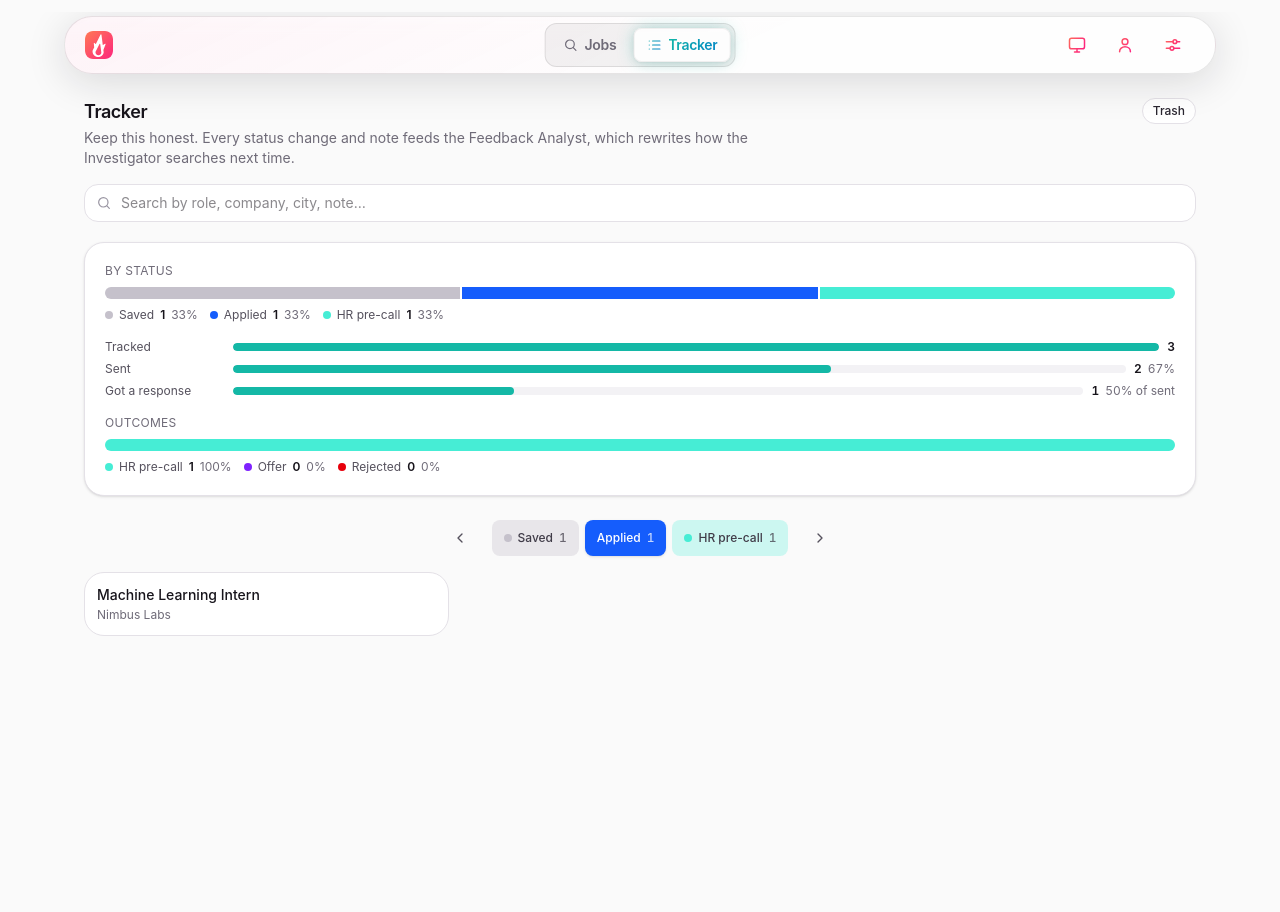
Test: the Tracker's search field › narrows the board to what matches
The width and height of the screenshot is (1280, 912).
Expected: the text "Nimbus Labs" is shown, [97,607,171,622]
Type "orbital" into the search field named "Search applications" at (640, 203), box [84,184,1196,222]
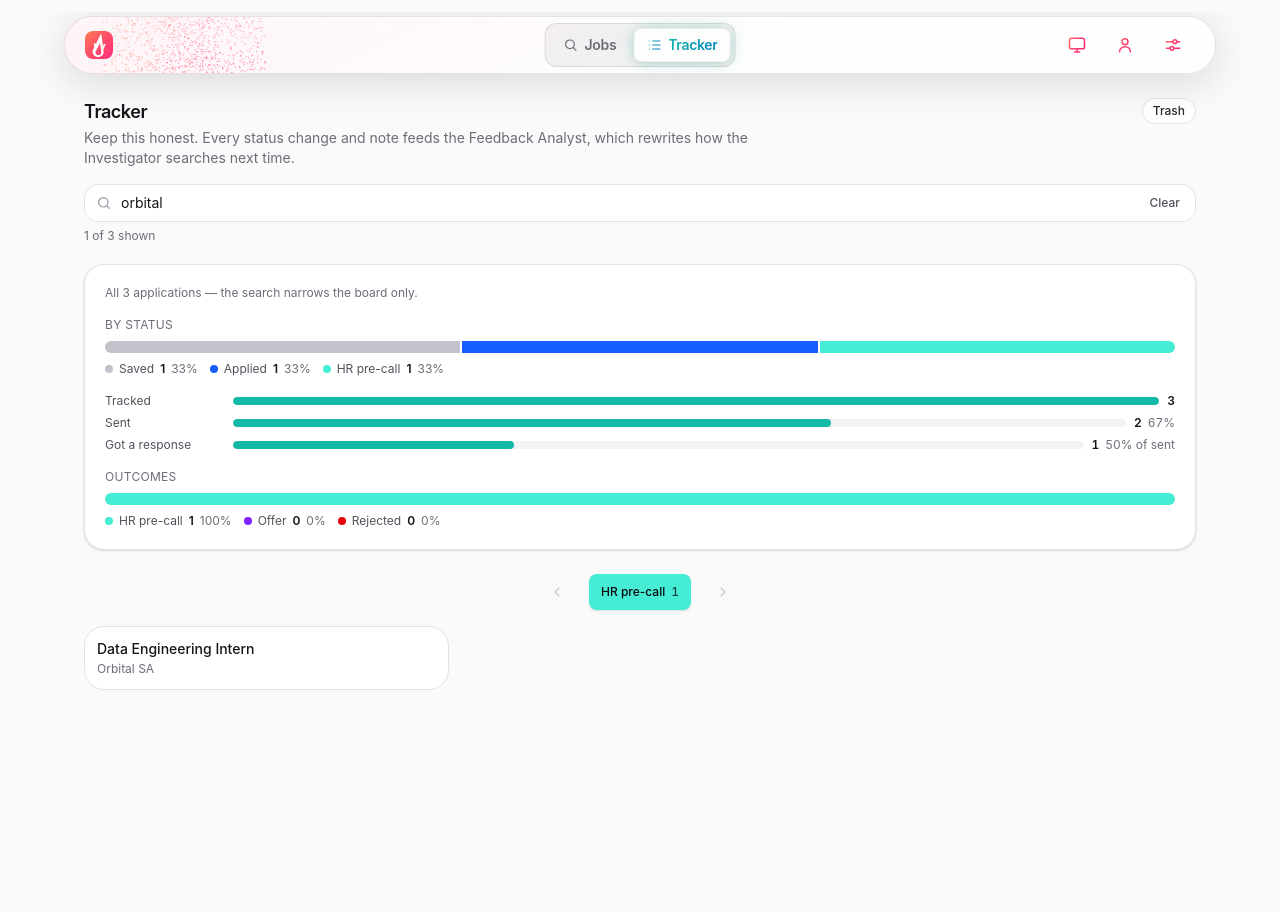
Expected: the link "Nimbus Labs" is gone
Expected: the text "Orbital SA" is shown, [97,661,154,676]
Expected: the text "1 of 3 shown" is shown, [84,228,155,243]
